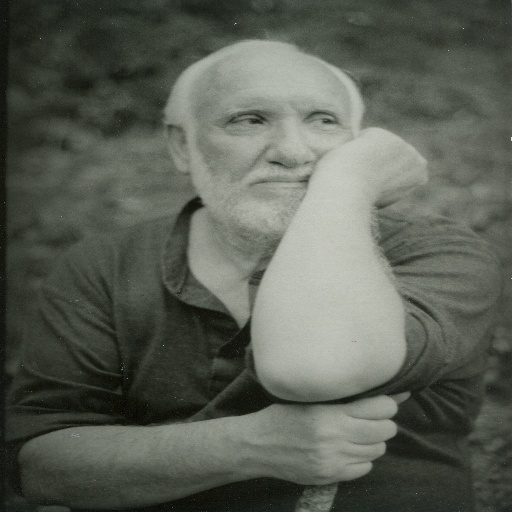hand: (86, 378, 437, 498), (306, 125, 431, 206)
